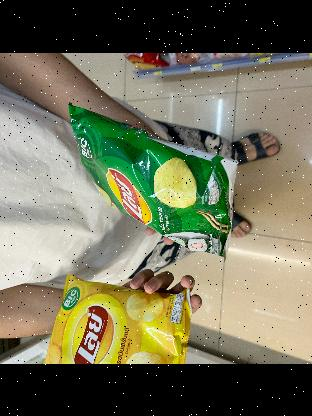Others: (60, 96, 238, 258), (40, 272, 196, 364)
